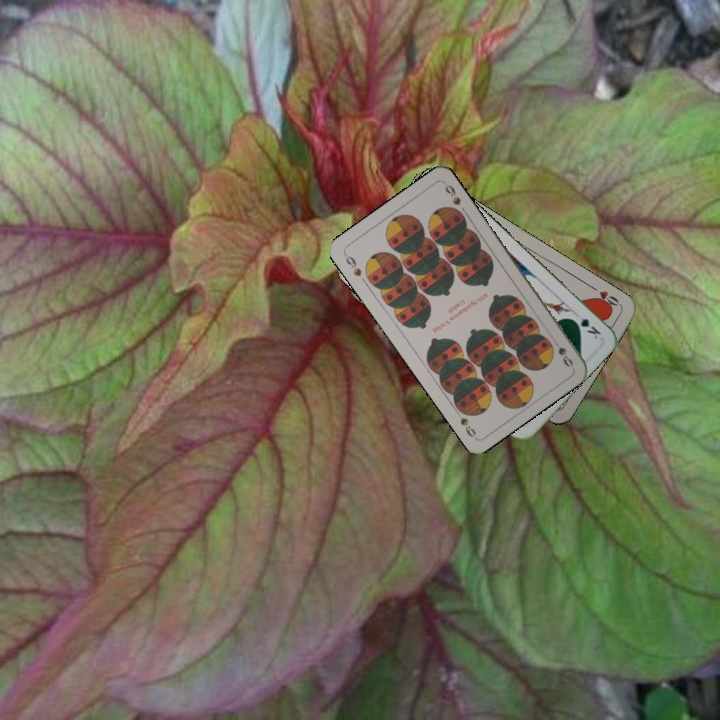GK: (567, 313, 604, 341)
HO: (586, 282, 623, 311)
S9: (549, 334, 576, 370), (340, 250, 364, 279)
